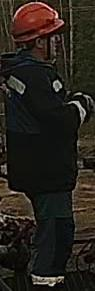gloves: (73, 90, 95, 122)
helmet: (10, 1, 65, 43)
vest: (0, 58, 80, 193)
